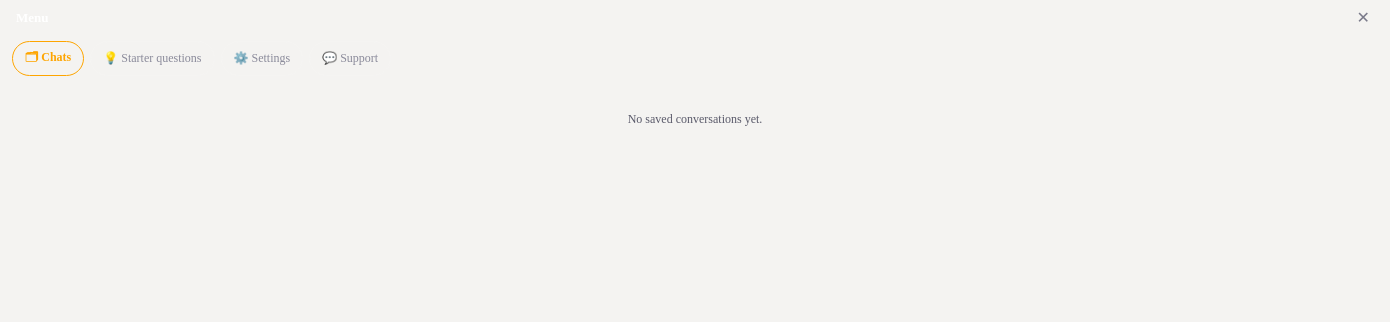
it: what TEC AI sees › a missing Life profile says so
Click the tab "⚙️ Settings": (262, 58) top-left (220, 41), bottom-right (303, 76)
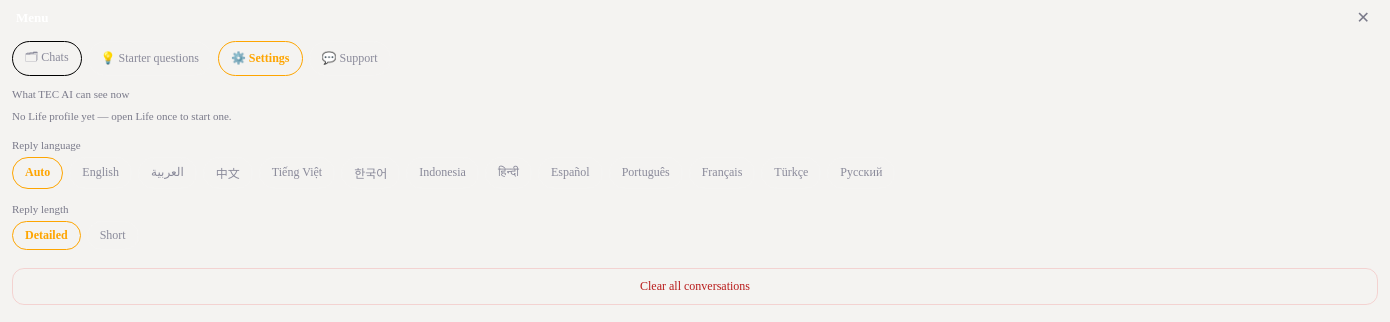
Check: the text "No Life profile yet — open Life once to start one." is shown, box top-left (12, 110), bottom-right (232, 122)
